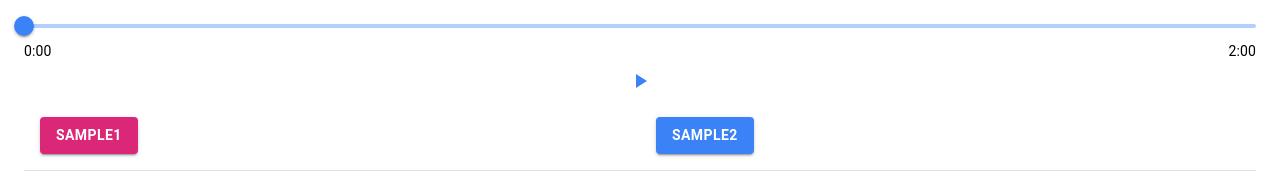
Test: MultiPlayer › toggles play and pause
Click the button with test id "play-pause-button" at [640, 81], box top-left (620, 61), bottom-right (660, 101)
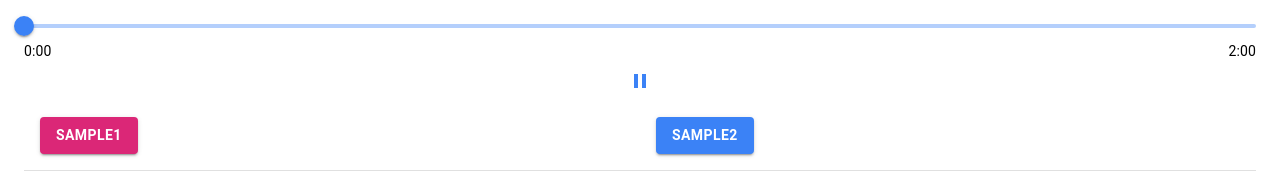
Now the icon with test id "pause-icon" is shown, box top-left (628, 69), bottom-right (652, 93)
Click the button with test id "play-pause-button" at [640, 81], box top-left (620, 61), bottom-right (660, 101)
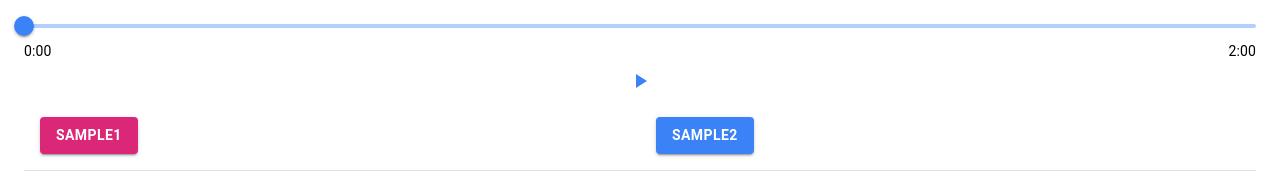
Now the icon with test id "play-icon" is shown, box top-left (628, 69), bottom-right (652, 93)
